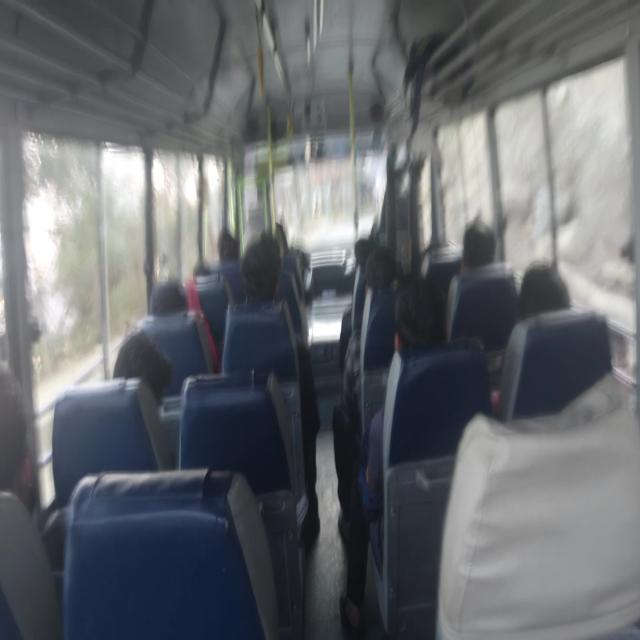person: (1, 365, 41, 510), (112, 323, 172, 403), (393, 271, 443, 359), (514, 256, 570, 326), (238, 240, 276, 298), (147, 271, 189, 321), (462, 217, 496, 274), (381, 175, 418, 218), (367, 249, 397, 293), (214, 227, 241, 270), (192, 253, 214, 294), (428, 234, 456, 263), (263, 230, 288, 262), (351, 230, 374, 262), (252, 166, 271, 202)
